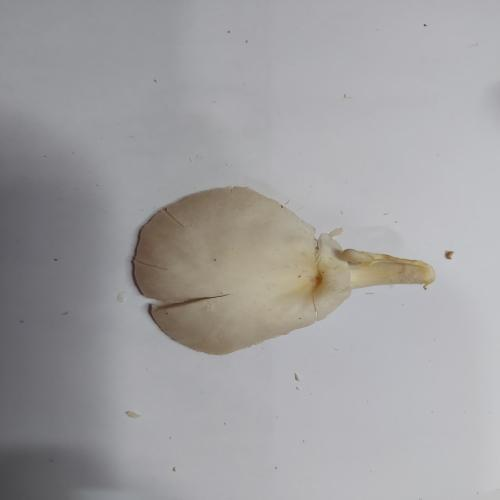Oyster Mushroom: (130, 184, 436, 356)
